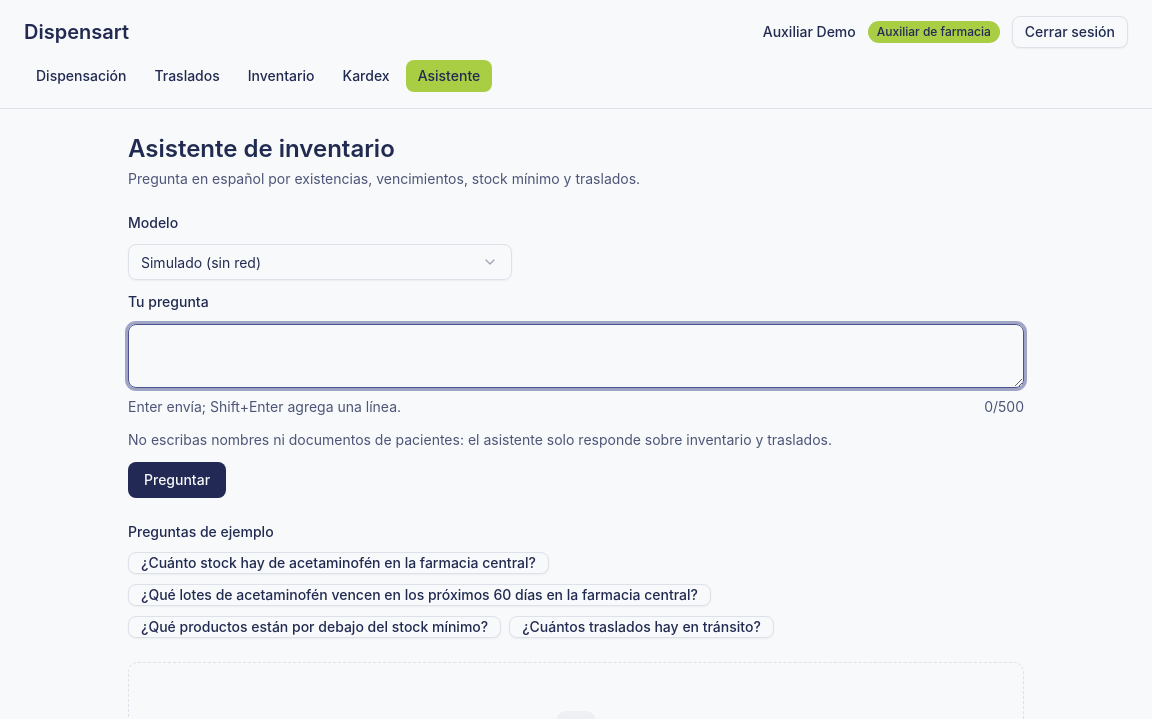
Scenario: Envío de una pregunta › Pregunta vacía (): "Este campo es obligatorio." y ninguna petición
Expected: the dropdown labelled "Modelo" is enabled, x1=128 y1=244 x2=512 y2=280
Click the button "Preguntar". click: x=177, y=480
box: x1=128 y1=462 x2=226 y2=498
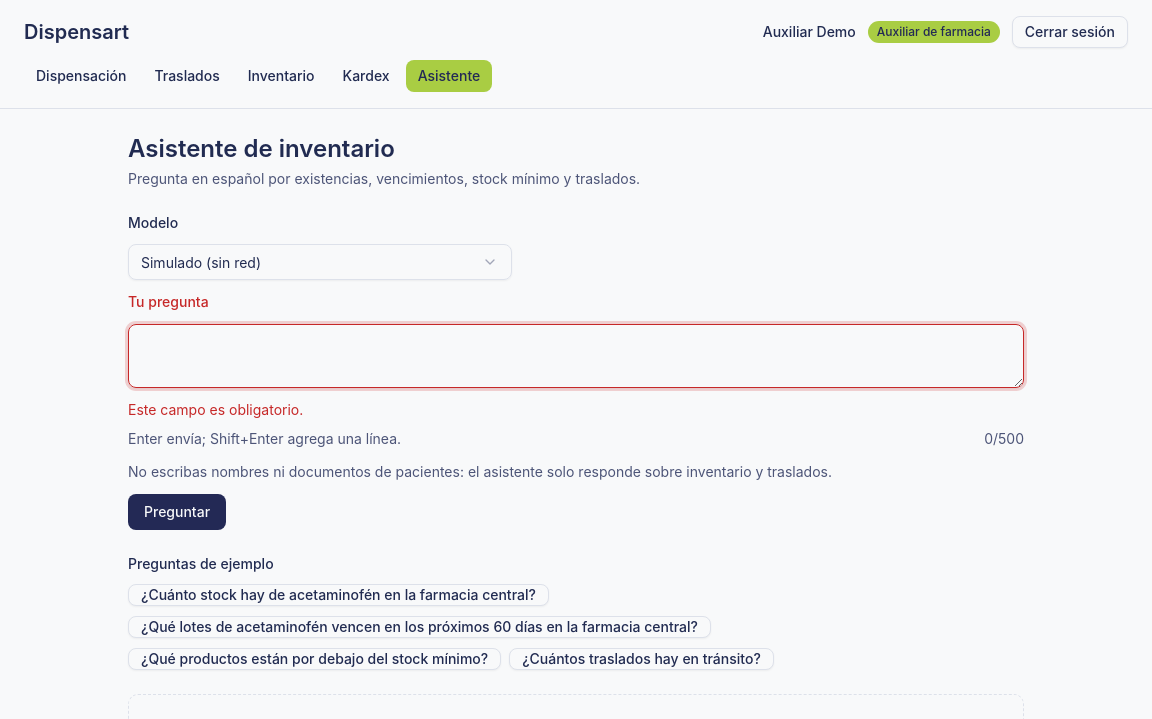
Expected: the text "Este campo es obligatorio." is shown, x1=128 y1=400 x2=303 y2=418
